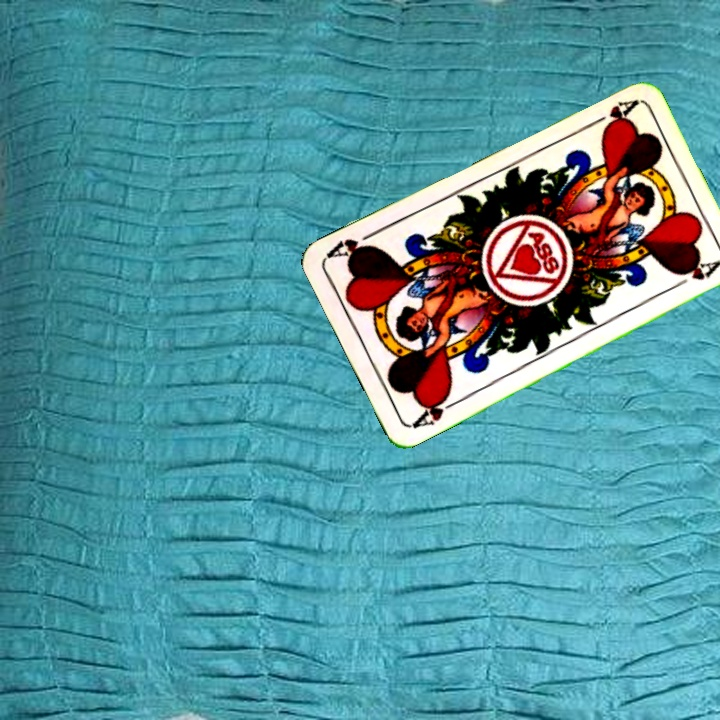HA: (408, 389, 463, 432), (583, 96, 639, 134)
